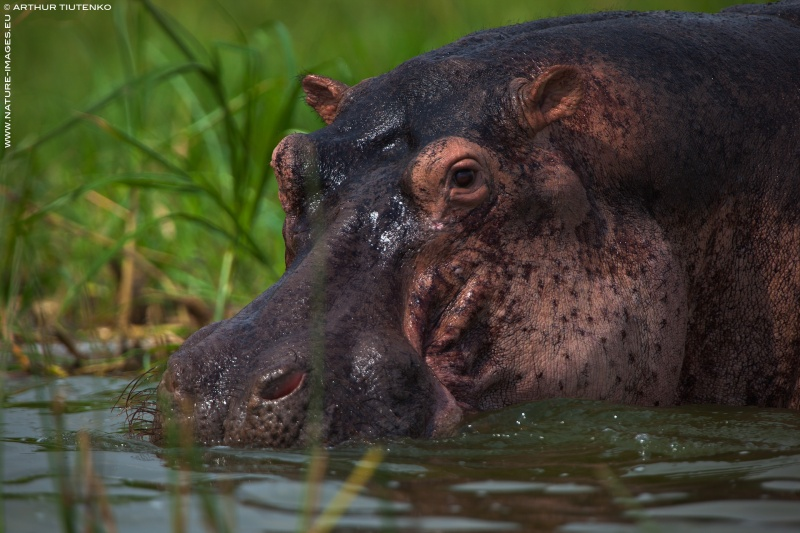hipopotamo: (167, 20, 800, 446)
